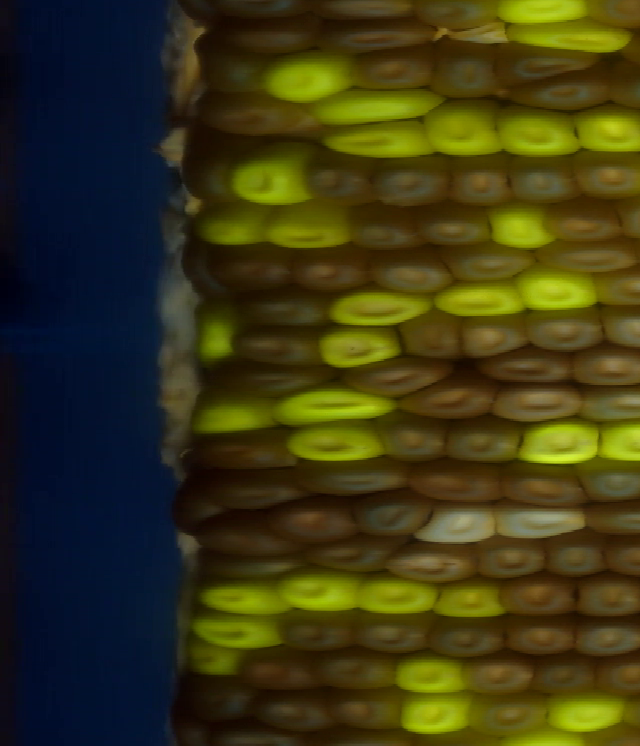fluorescent: (228, 149, 335, 212), (496, 95, 584, 169), (268, 381, 402, 427), (494, 17, 638, 59), (309, 82, 456, 122), (258, 44, 352, 106), (508, 412, 608, 470), (419, 99, 512, 160), (538, 680, 636, 737), (268, 195, 357, 257), (330, 281, 442, 328), (388, 643, 483, 697), (284, 416, 386, 466), (324, 118, 434, 164), (513, 259, 600, 316), (493, 497, 593, 545), (317, 317, 407, 369), (183, 612, 298, 651), (194, 577, 296, 620), (433, 274, 523, 322), (272, 564, 358, 614), (398, 688, 482, 739), (433, 574, 519, 623), (349, 571, 441, 616), (423, 499, 498, 553), (482, 199, 560, 250), (197, 390, 278, 438), (566, 107, 640, 156), (197, 204, 276, 249), (494, 2, 596, 27), (594, 414, 640, 464), (188, 643, 254, 677), (205, 324, 235, 372)
nonfluorescent: (297, 450, 424, 501), (404, 454, 508, 513), (431, 240, 552, 288), (184, 424, 305, 472), (207, 238, 297, 299), (181, 137, 256, 209), (197, 95, 315, 140), (319, 16, 442, 59), (371, 154, 467, 209), (521, 303, 615, 359), (387, 538, 484, 592), (304, 146, 386, 209), (220, 12, 321, 62), (479, 343, 582, 392), (502, 145, 581, 208), (291, 245, 375, 304), (231, 327, 333, 375), (368, 409, 454, 465), (345, 199, 428, 257), (508, 69, 617, 113), (444, 414, 526, 472), (539, 234, 640, 281), (496, 37, 614, 77), (365, 250, 460, 299), (324, 683, 415, 734), (496, 461, 587, 511), (238, 287, 339, 332), (202, 470, 310, 512), (502, 567, 583, 623), (398, 378, 493, 425), (344, 50, 452, 91), (347, 353, 449, 396), (447, 151, 520, 211), (310, 644, 399, 693), (250, 692, 338, 741), (456, 304, 530, 362), (570, 143, 640, 204), (433, 41, 515, 93), (483, 381, 584, 423), (540, 199, 626, 248), (470, 537, 561, 583), (460, 699, 568, 737), (271, 609, 357, 656), (572, 448, 640, 507), (573, 569, 640, 627), (396, 308, 465, 364), (428, 613, 508, 661), (546, 530, 614, 586), (419, 204, 500, 251), (447, 653, 535, 696), (178, 677, 252, 728), (220, 362, 328, 396), (242, 643, 315, 693), (355, 609, 431, 657), (203, 514, 294, 554), (534, 650, 603, 699), (567, 344, 640, 390), (279, 499, 360, 540), (305, 538, 392, 576), (214, 44, 271, 101), (573, 614, 640, 662), (356, 491, 431, 533), (576, 376, 640, 424), (200, 556, 314, 582), (503, 622, 586, 657), (592, 646, 640, 702), (586, 265, 640, 313), (584, 499, 640, 545), (593, 301, 640, 355), (600, 530, 640, 577), (177, 487, 212, 535), (587, 1, 640, 32), (607, 59, 640, 107)
